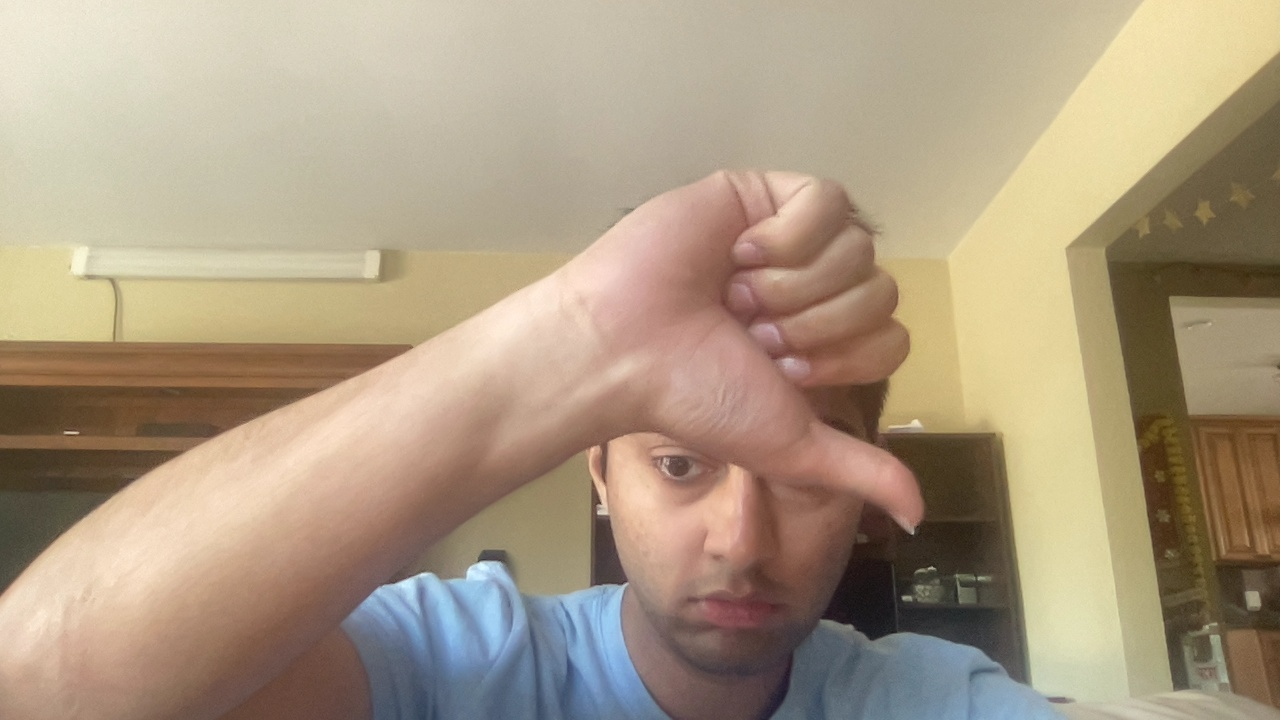ThumbsDown: (627, 167, 923, 538)
